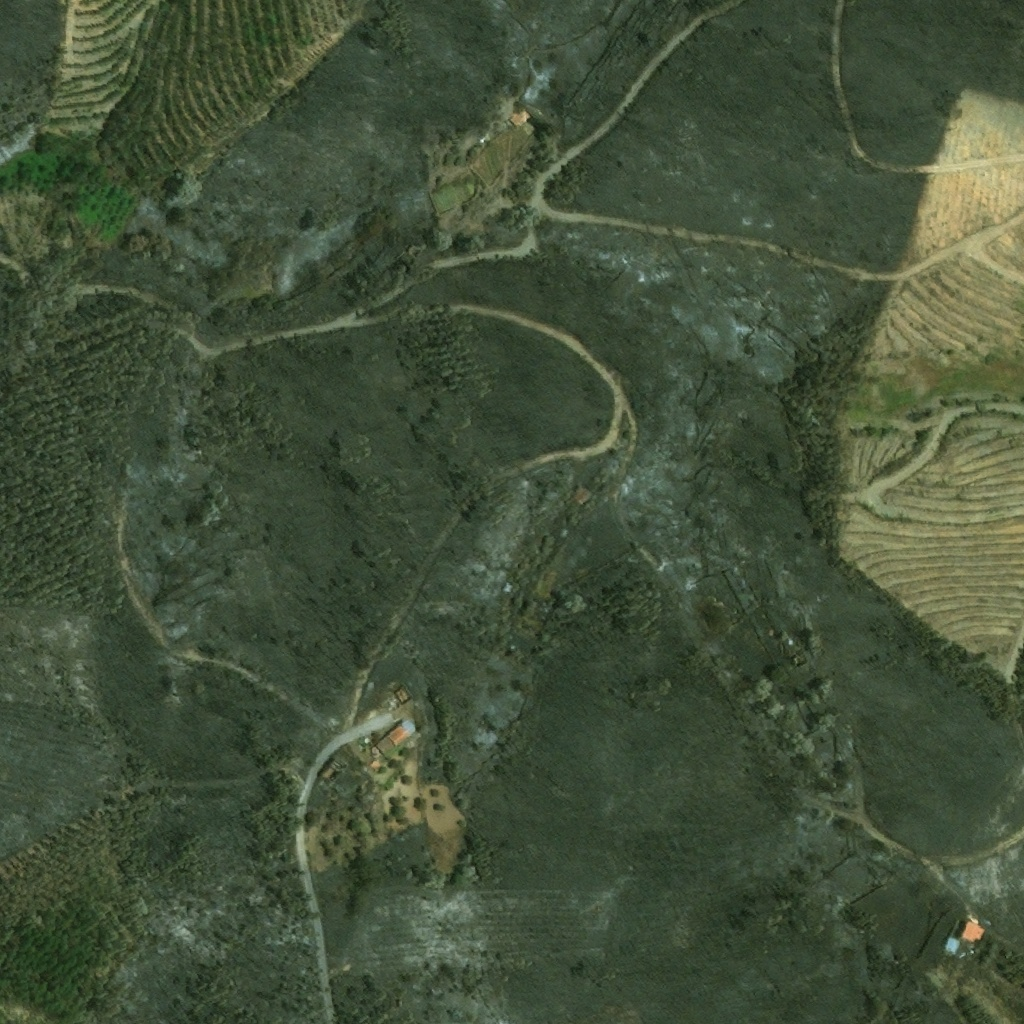0 no-damage: (959, 920, 984, 944), (386, 723, 410, 746), (374, 735, 395, 756), (509, 109, 530, 129), (941, 936, 960, 954), (401, 718, 416, 734), (368, 759, 380, 770), (362, 736, 371, 745)
3 destroyed: (320, 760, 344, 784), (393, 686, 411, 706), (390, 699, 402, 711)
4 un-classified: (573, 488, 590, 505), (489, 127, 504, 140), (501, 120, 514, 131), (405, 680, 413, 688), (483, 135, 490, 142)
